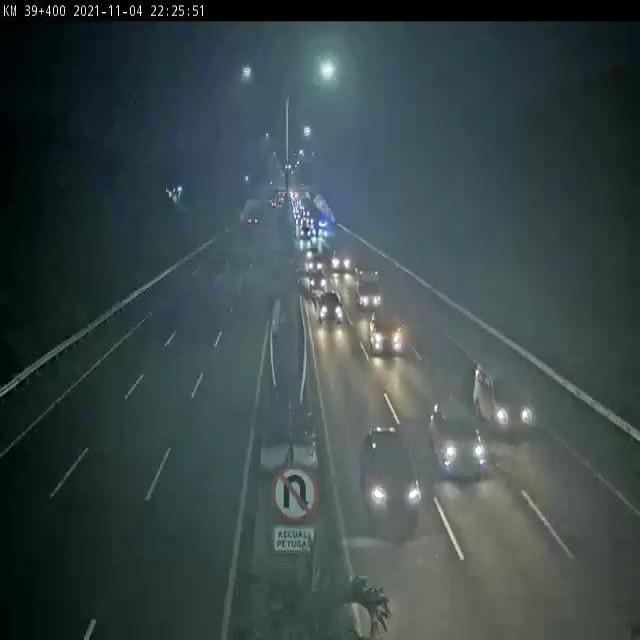car: (358, 415, 420, 553), (425, 392, 495, 500), (473, 350, 543, 446), (368, 309, 412, 372), (313, 283, 344, 328)
truck-s-: (349, 259, 392, 316)
